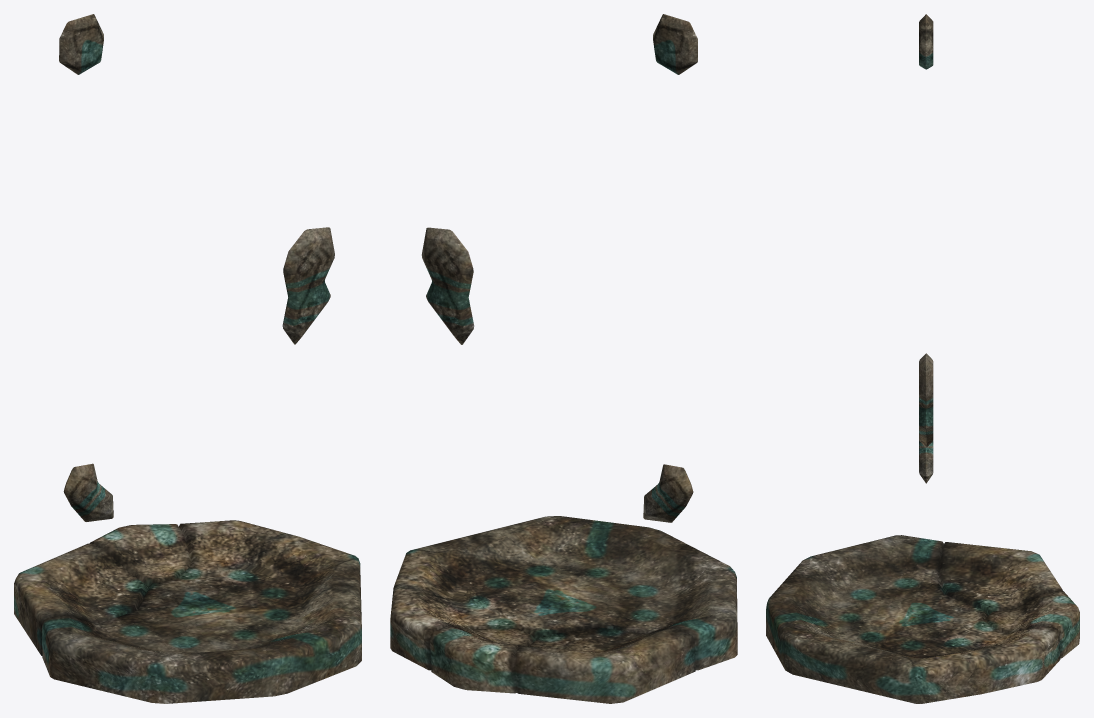
File: Relic_Base.fbx
3 views of the same model, side by side, from view 1: azimuth 30°, elevation 25°; view 2: azimuth 150°, elevation 25°; view 3: azimuth 270°, elevation 25° (orthographic). The views are drawn at different scales.
Parts seen in each view (by area): view 1: Relic_Base, Relic_Frag-02, Relic_Frag-01, Relic_Frag-03; view 2: Relic_Base, Relic_Frag-02, Relic_Frag-01, Relic_Frag-03; view 3: Relic_Base, Relic_Frag-02, Relic_Frag-01, Relic_Frag-03.
Part boxes in pixels (<box>): Relic_Base: <box>14,520,361,703</box>; Relic_Frag-02: <box>282,227,334,344</box>; Relic_Frag-01: <box>59,14,103,74</box>; Relic_Frag-03: <box>63,463,113,521</box>; Relic_Base: <box>390,516,737,703</box>; Relic_Frag-02: <box>421,227,474,344</box>; Relic_Frag-01: <box>653,14,697,74</box>; Relic_Frag-03: <box>643,464,693,522</box>; Relic_Base: <box>766,535,1079,703</box>; Relic_Frag-02: <box>919,353,933,447</box>; Relic_Frag-01: <box>919,14,933,69</box>; Relic_Frag-03: <box>919,439,933,483</box>.
Size of the model in its own units: 133 by 254 by 127.
